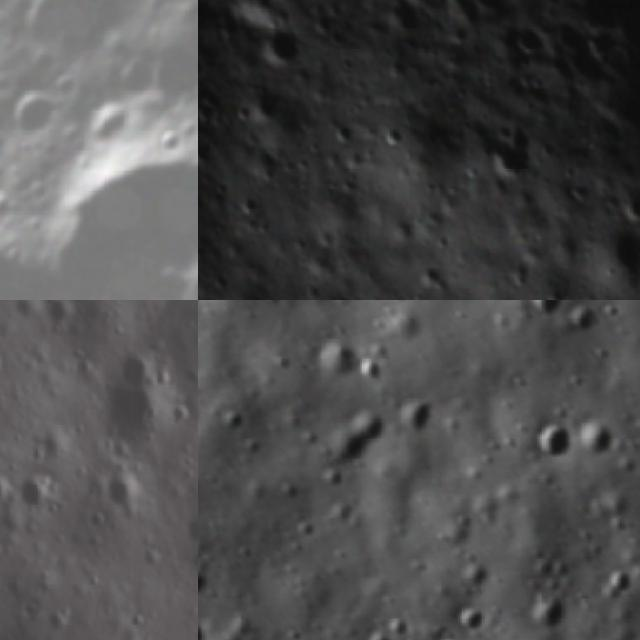crater: (5, 84, 198, 300), (0, 0, 151, 83), (456, 99, 558, 201), (0, 197, 84, 300), (242, 4, 326, 90), (88, 369, 168, 455), (0, 77, 72, 151), (326, 399, 395, 470), (101, 45, 168, 113), (86, 465, 143, 518), (574, 412, 618, 461), (313, 337, 359, 383), (392, 392, 434, 442), (530, 418, 574, 464), (20, 468, 60, 518), (528, 592, 568, 636), (42, 300, 83, 340), (0, 175, 27, 233), (562, 302, 599, 341), (351, 354, 386, 392), (602, 562, 636, 601), (452, 601, 489, 636), (320, 279, 376, 300), (525, 300, 566, 324), (384, 613, 415, 640), (198, 564, 213, 607), (220, 411, 248, 432), (0, 470, 17, 504)
